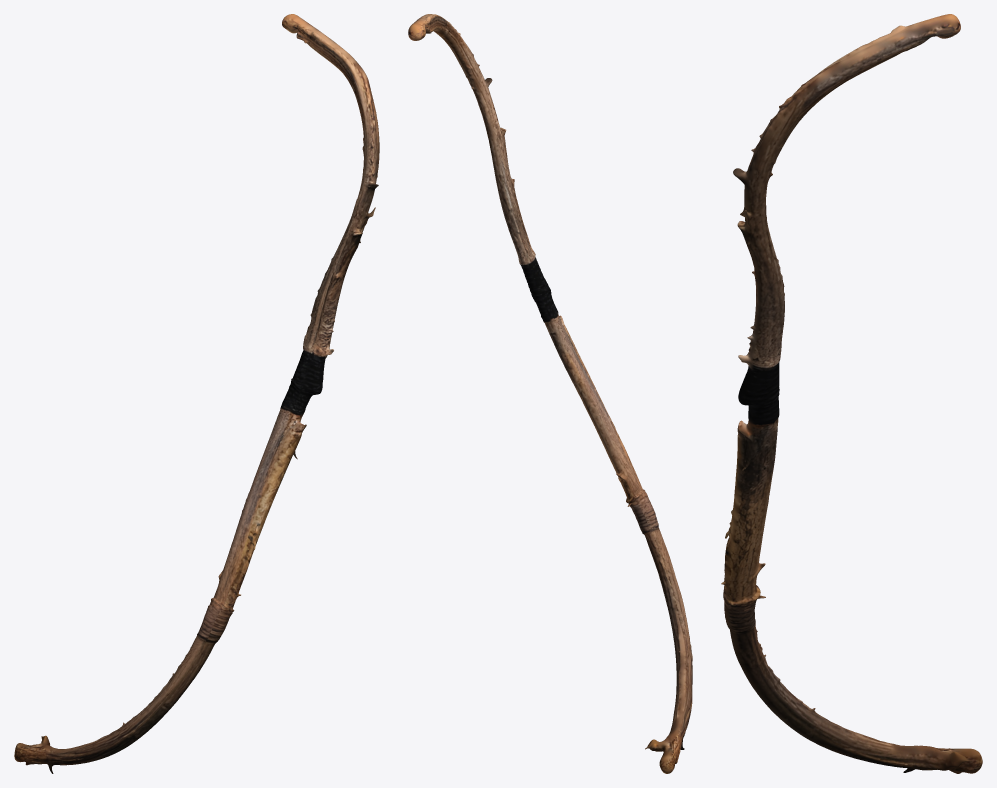
File: 030-sostavnoy-tradicionnyy-luk.glb
3 views of the same model, side by side, from view 1: azimuth 30°, elevation 25°; view 2: azimuth 150°, elevation 25°; view 3: azimuth 270°, elevation 25° (orthographic). The views are drawn at different scales.
Visible parts, largest first — view 1: node_0; view 2: node_0; view 3: node_0.
Part boxes in pixels (bbox=[...]): node_0: bbox=[14, 14, 379, 773]; node_0: bbox=[408, 14, 692, 773]; node_0: bbox=[721, 14, 982, 773].
Bounding box in the file's own units: 0.4874 × 1.07 × 0.2729.
Materials: 1 (1 with a texture image).
